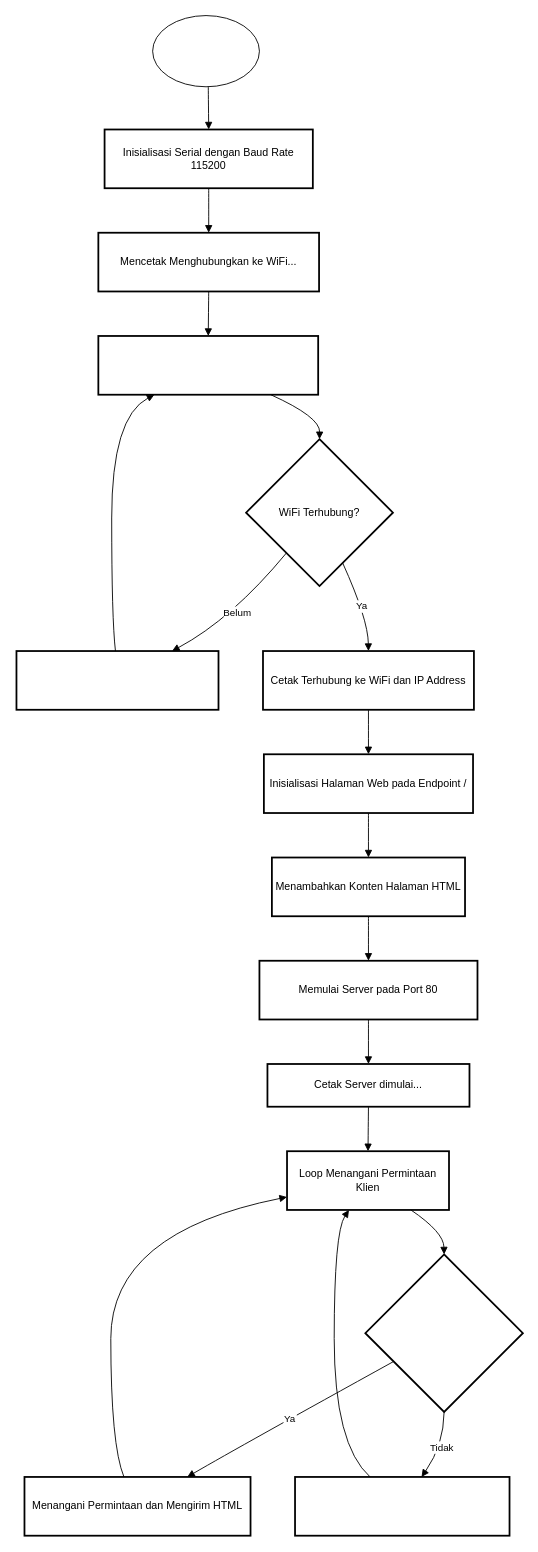
Some shapes in this 538 by 1552 pixel diagram are drawn without their labels. Here are the shapes that lost their labels. From the top down, the box of each, then its label:
(152, 15, 259, 87): Mulai
(97, 335, 319, 395): Memulai Koneksi WiFi dengan SSID dan Password
(15, 650, 219, 710): Delay 500ms dan Cetak Titik
(364, 1253, 523, 1412): Permintaan Klien?
(294, 1476, 510, 1536): Cetak IP Address Setiap 1 Detik
